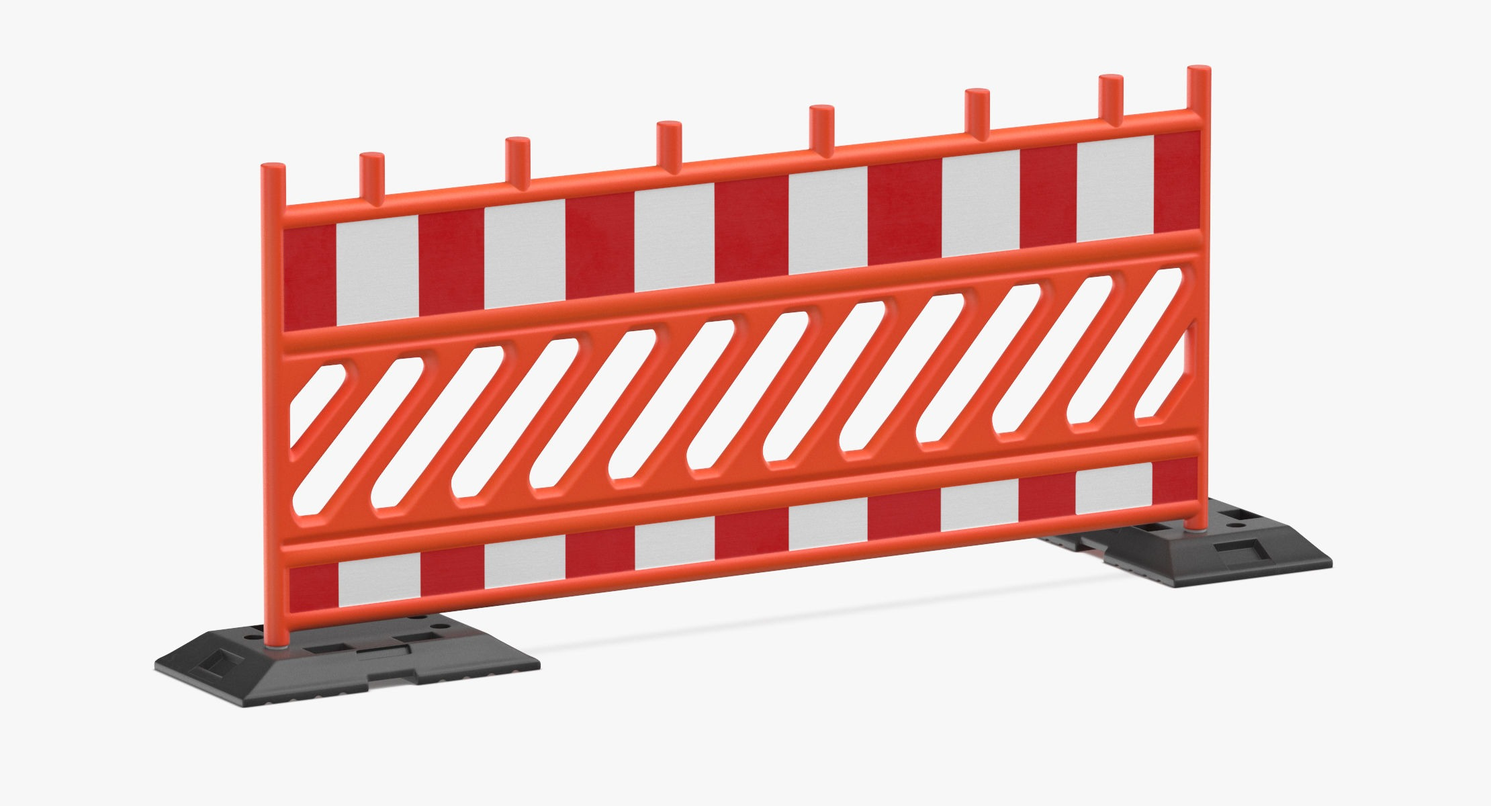Barrier: (102, 49, 1370, 699)
